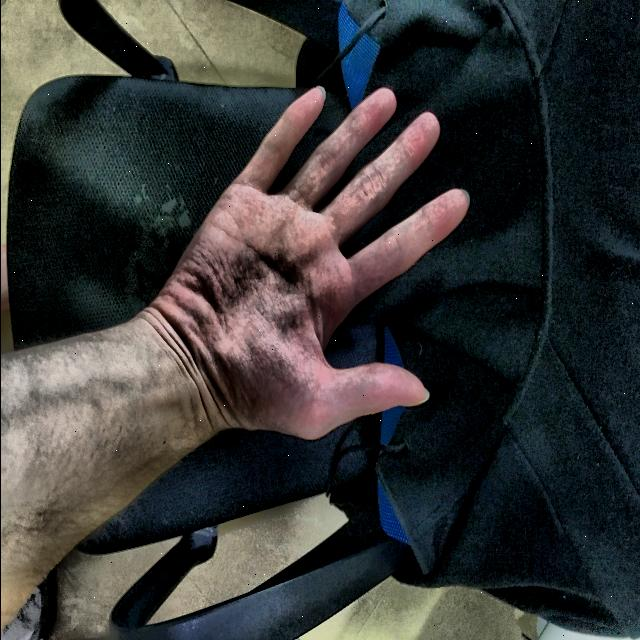not-gloved: (122, 62, 488, 482)
